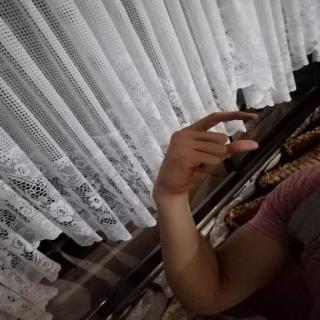DELL: (150, 104, 268, 198)
